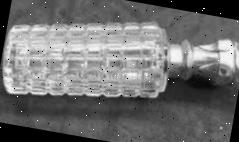glass: (0, 0, 239, 133)
